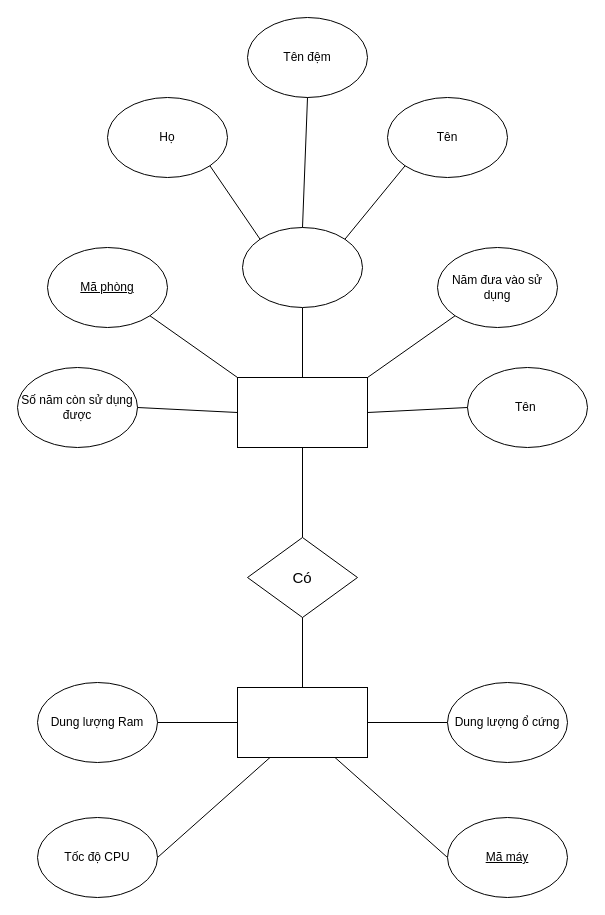
This 605x915 diagram has some shape labels left out. Each missing label, with the centre of its shape:
"Máy tính" belongs at point (302, 722).
"Phòng máy" belongs at point (302, 412).
"Tên người quản lý" belongs at point (302, 267).
